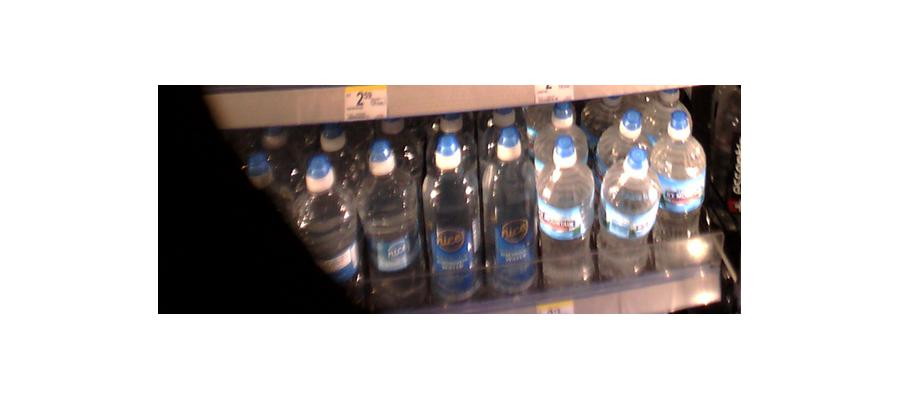bottle: (359, 131, 423, 308), (425, 117, 481, 305), (483, 112, 539, 299), (600, 109, 659, 281), (293, 147, 357, 292), (655, 104, 707, 281), (541, 124, 596, 288)
